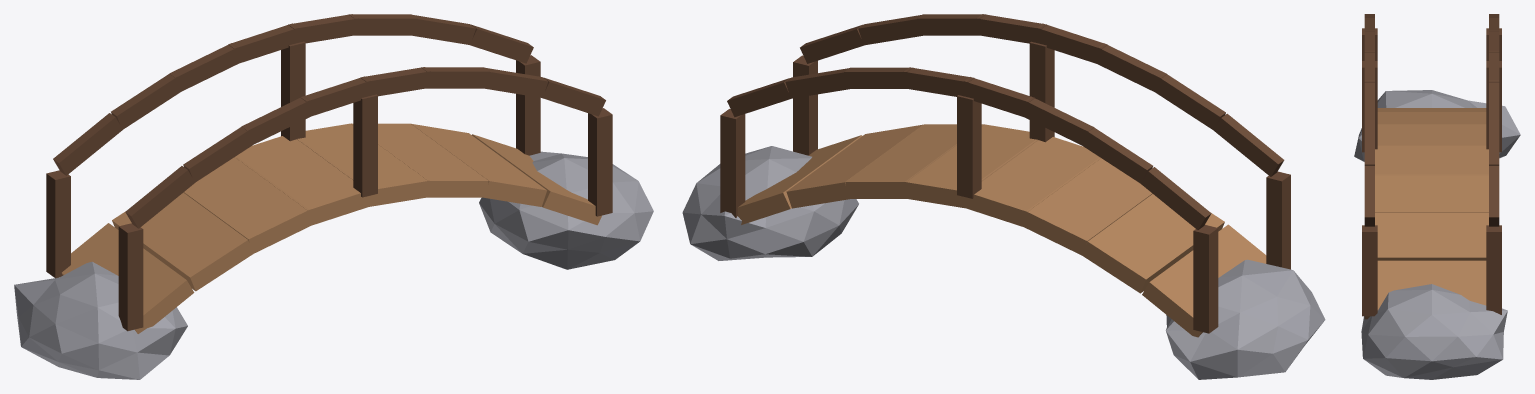
The model's file is deco_bridge.obj.
The picture shows the model from 3 angles, left to right: view 1: azimuth 30°, elevation 25°; view 2: azimuth 150°, elevation 25°; view 3: azimuth 270°, elevation 25°; orthographic projection. The views are drawn at different scales.
Parts seen in each view (by area): view 1: deco_bridge; view 2: deco_bridge; view 3: deco_bridge.
Boxes of the visible parts, left/top/right/bottom form: deco_bridge: left=14, top=14, right=653, bottom=379; deco_bridge: left=682, top=14, right=1325, bottom=379; deco_bridge: left=1354, top=14, right=1520, bottom=379.
Size of the model in its own units: 0.1161 by 0.0471 by 0.0322.
Materials: 1 (1 with a texture image).
